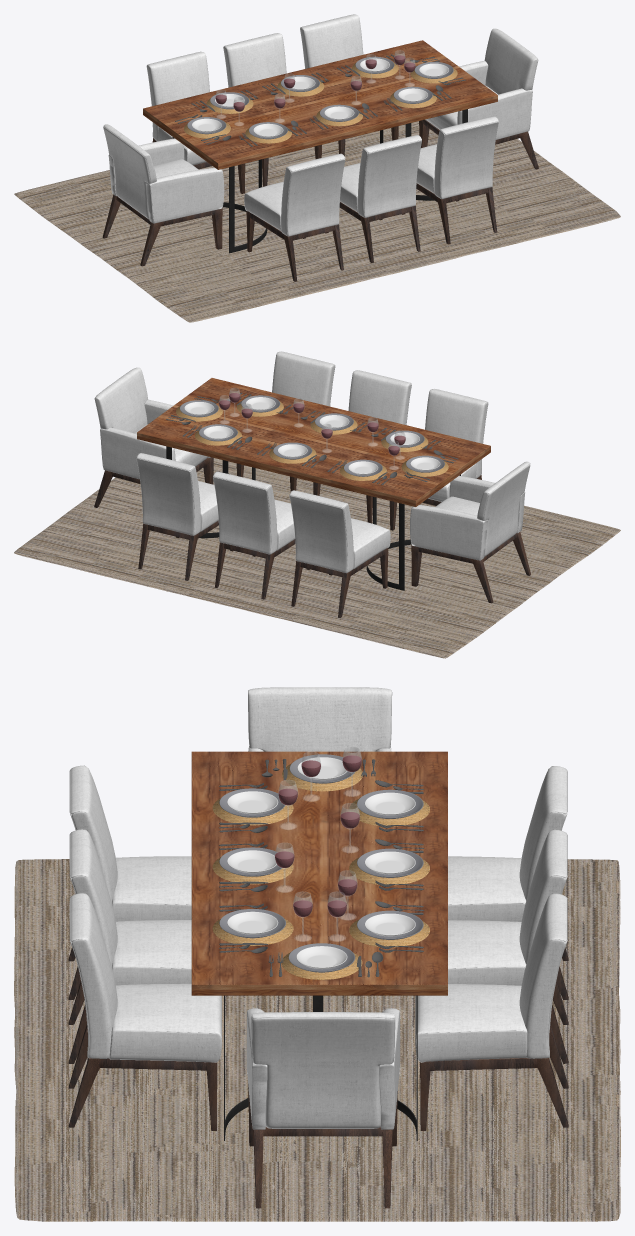
Rendered from dining-table-with-plates.glb.
3 renders of one model, top to bottom at view 1: azimuth 30°, elevation 25°; view 2: azimuth 150°, elevation 25°; view 3: azimuth 270°, elevation 25°, orthographic. The views are drawn at different scales.
Visible parts, largest first — view 1: Plane001, Box020, armchair_fabric, chair_legs005.002, armchair_fabric.001, chair_legs005.006, chair_legs005.001, chair_legs005.005, chair_legs005.004, chair_legs005.003, Cylinder001, plate_014.005 (+6 smaller); view 2: Plane001, Box020, armchair_fabric, chair_legs005.005, armchair_fabric.001, chair_legs005.004, chair_legs005.003, chair_legs005.002, chair_legs005.001, chair_legs005.006, Cylinder001, plate_014.002 (+7 smaller); view 3: Plane001, Box020, armchair_fabric.001, chair_legs005.006, chair_legs005.003, armchair_fabric, chair_legs005.001, chair_legs005.004, chair_legs005.002, chair_legs005.005, plate, plate_014.001 (+15 smaller).
Part boxes in pixels (<box>): Plane001: <box>14,121,620,322</box>; Box020: <box>143,40,497,169</box>; armchair_fabric: <box>102,124,224,266</box>; chair_legs005.002: <box>244,153,345,281</box>; armchair_fabric.001: <box>419,28,538,169</box>; chair_legs005.006: <box>402,116,498,244</box>; chair_legs005.001: <box>325,135,421,262</box>; chair_legs005.005: <box>146,51,245,193</box>; chair_legs005.004: <box>223,33,321,186</box>; chair_legs005.003: <box>300,14,398,155</box>; Cylinder001: <box>172,109,467,253</box>; plate_014.005: <box>249,122,287,139</box>; Plane001: <box>14,458,620,658</box>; Box020: <box>137,378,490,506</box>; armchair_fabric: <box>410,461,530,603</box>; chair_legs005.005: <box>289,490,390,617</box>; armchair_fabric.001: <box>94,367,213,507</box>; chair_legs005.004: <box>213,471,309,599</box>; chair_legs005.003: <box>136,453,233,580</box>; chair_legs005.002: <box>389,389,488,530</box>; chair_legs005.001: <box>313,370,411,523</box>; chair_legs005.006: <box>236,351,335,491</box>; Cylinder001: <box>166,446,460,590</box>; plate_014.002: <box>273,442,312,459</box>; Plane001: <box>14,859,620,1221</box>; Box020: <box>191,751,447,995</box>; armchair_fabric.001: <box>246,1008,399,1208</box>; chair_legs005.006: <box>68,893,221,1130</box>; chair_legs005.003: <box>415,893,568,1130</box>; armchair_fabric: <box>248,687,392,751</box>; chair_legs005.001: <box>68,829,191,1063</box>; chair_legs005.004: <box>448,829,568,1063</box>; chair_legs005.002: <box>68,765,191,1000</box>; chair_legs005.005: <box>448,766,568,999</box>; plate: <box>288,943,355,972</box>; plate_014.001: <box>357,910,423,939</box>.
Size of the model in its own units: 4.09 by 1.15 by 2.89.
11 materials, 6 textured.
